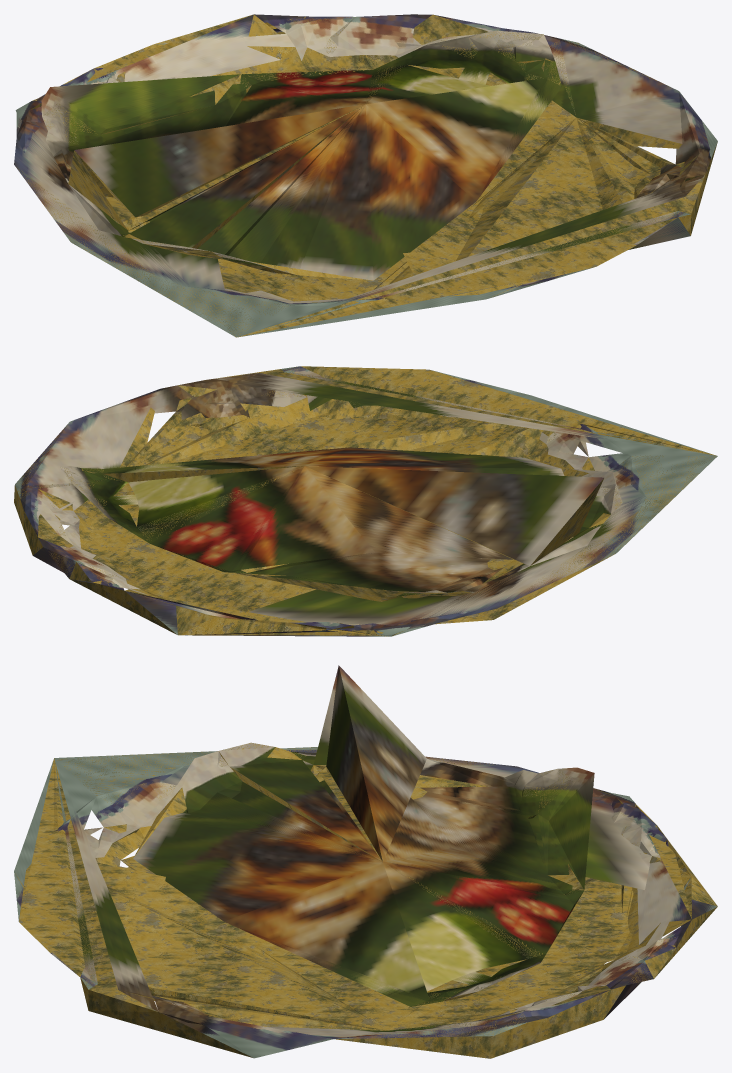
Rendered from dish_plate_fish_reduced.glb.
The picture shows the model from 3 angles, top to bottom: view 1: azimuth 30°, elevation 25°; view 2: azimuth 150°, elevation 25°; view 3: azimuth 270°, elevation 25°; orthographic projection. The views are drawn at different scales.
Parts seen in each view (by area): view 1: FoodOnTopOnly, CeramicRimOutsideAndBottom; view 2: FoodOnTopOnly, CeramicRimOutsideAndBottom; view 3: FoodOnTopOnly, CeramicRimOutsideAndBottom.
Boxes of the visible parts, <box> form: FoodOnTopOnly: <box>14,14,717,337</box>; CeramicRimOutsideAndBottom: <box>16,14,717,337</box>; FoodOnTopOnly: <box>15,366,717,636</box>; CeramicRimOutsideAndBottom: <box>14,366,716,636</box>; FoodOnTopOnly: <box>14,665,717,1058</box>; CeramicRimOutsideAndBottom: <box>15,743,717,1058</box>.
Size of the model in its own units: 1.86 by 0.3739 by 1.89.
Materials: 2 (2 with a texture image).
